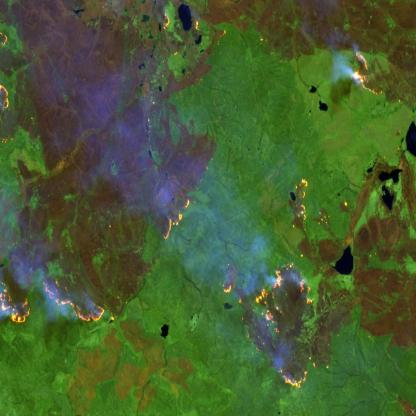fire: (220, 175, 314, 390), (0, 273, 106, 331), (159, 192, 196, 246), (350, 47, 384, 99), (0, 24, 14, 114)
